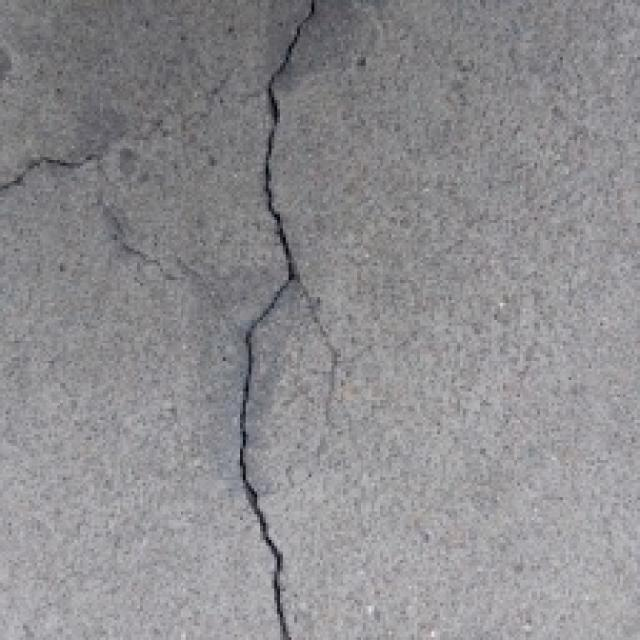crack: (218, 0, 358, 640)
